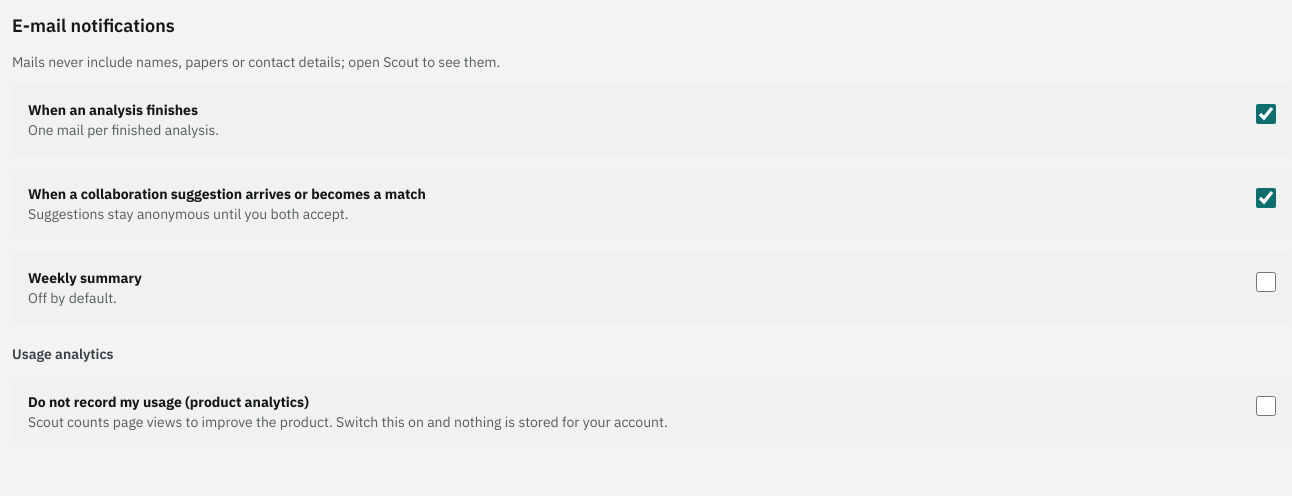
Test: NotificationSettings › rolls back and shows an error when saving fails
Click the checkbox labelled "Weekly summary".
click(1266, 282)  # box [1256, 272, 1276, 292]
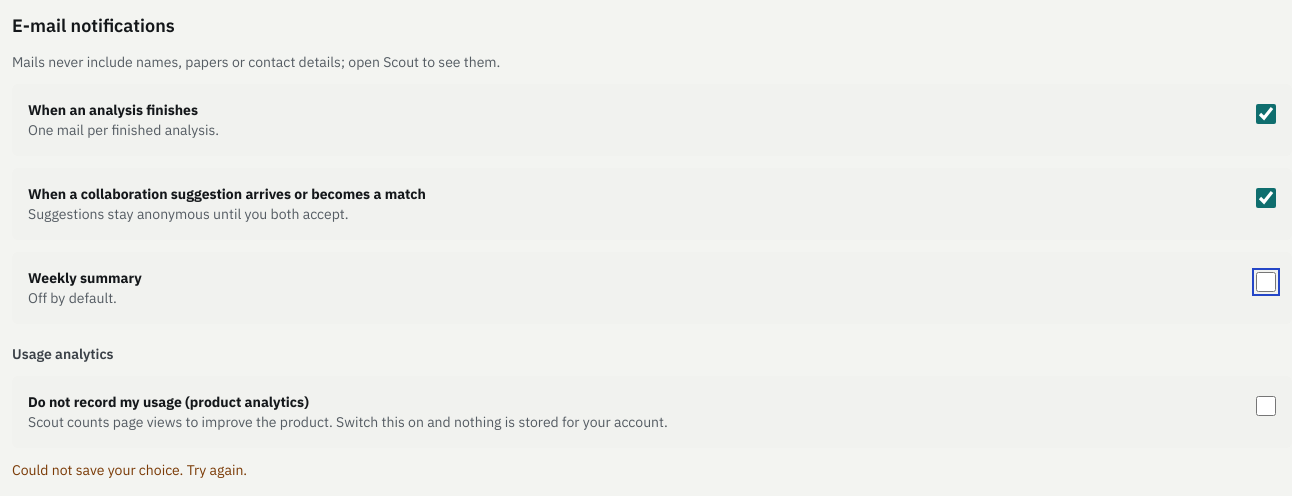
expect the message shows "Could not save": met, box [12, 461, 247, 479]
